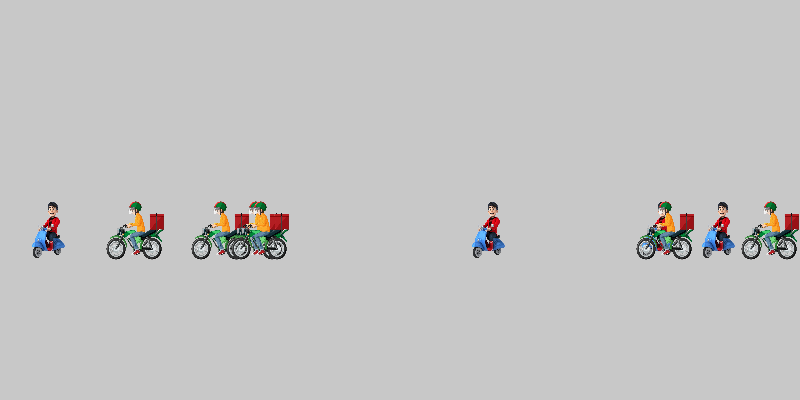helmet: (105, 200, 165, 260), (190, 200, 250, 260), (225, 200, 285, 260), (230, 200, 290, 260), (635, 200, 695, 260), (740, 200, 800, 260)
no_helmet: (20, 200, 80, 260), (460, 200, 520, 260), (630, 200, 690, 260), (690, 200, 750, 260)
